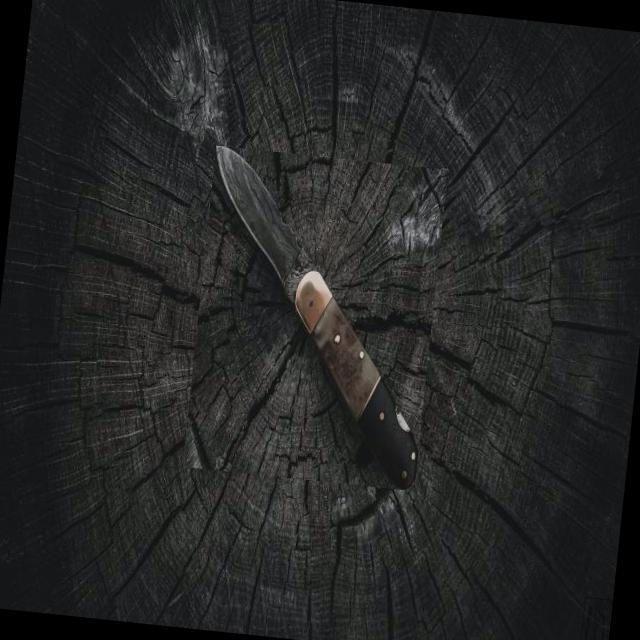Knife: (216, 146, 416, 490)
